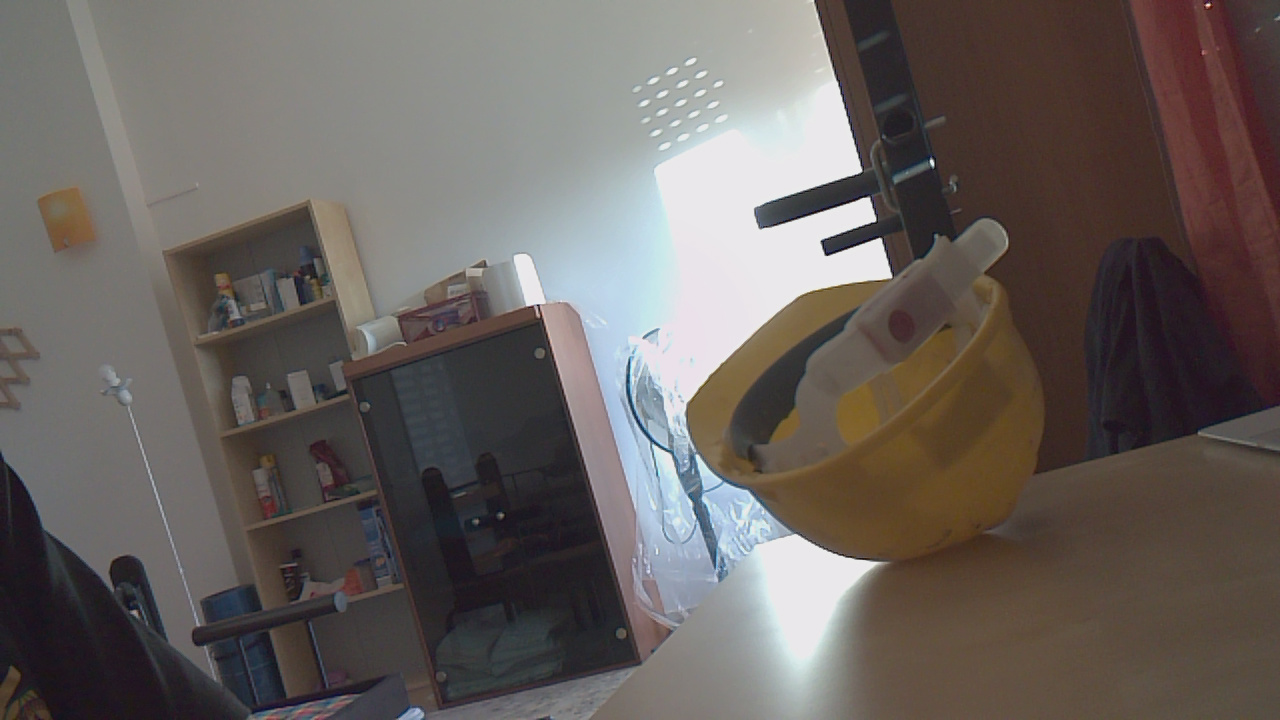Helmet: (684, 218, 1064, 577)
